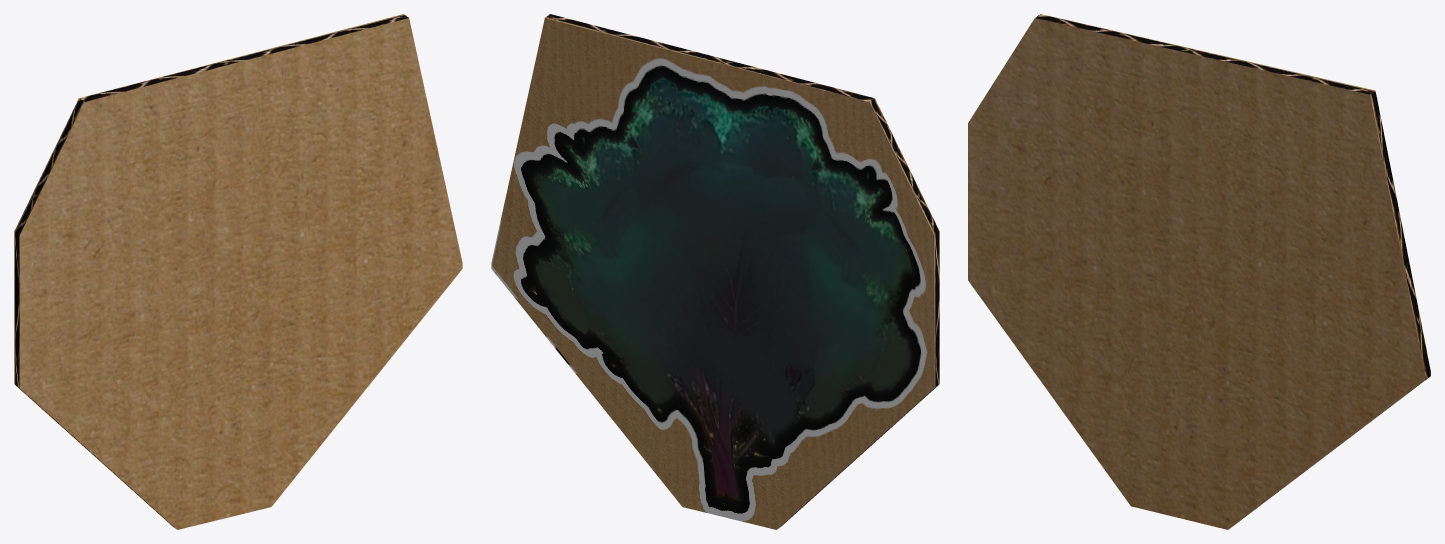
The model's file is Cardboard-Tree01.FBX.
3 views of the same model, side by side, from view 1: azimuth 30°, elevation 25°; view 2: azimuth 150°, elevation 25°; view 3: azimuth 330°, elevation 25° (orthographic). The views are drawn at different scales.
Visible parts, largest first — view 1: Box001; view 2: Box001; view 3: Box001.
Boxes of the visible parts, bbox=[...] form: Box001: bbox=[14, 14, 462, 529]; Box001: bbox=[491, 14, 939, 529]; Box001: bbox=[968, 14, 1430, 529].
Size of the model in its own units: 153 by 150 by 3.24.
1 material, 1 textured.
